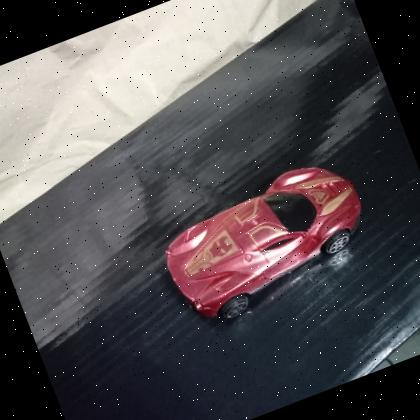Car: (144, 142, 391, 341)
